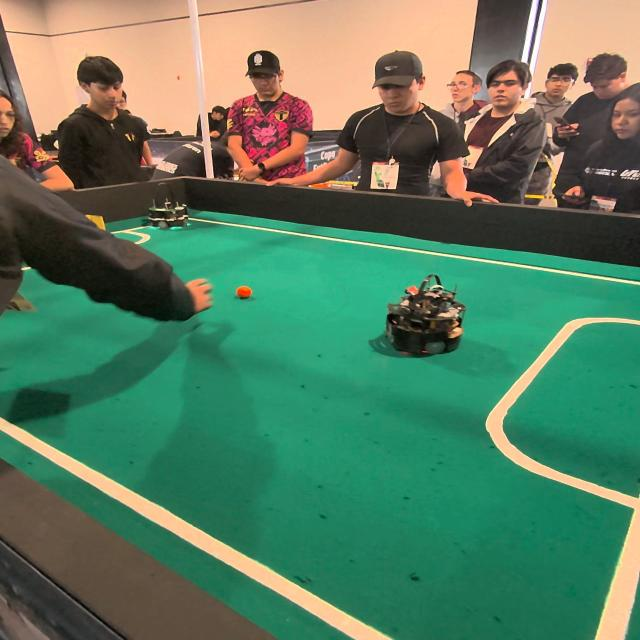Robot: (388, 275, 470, 364), (143, 176, 192, 233)
pelota: (235, 285, 252, 298)
